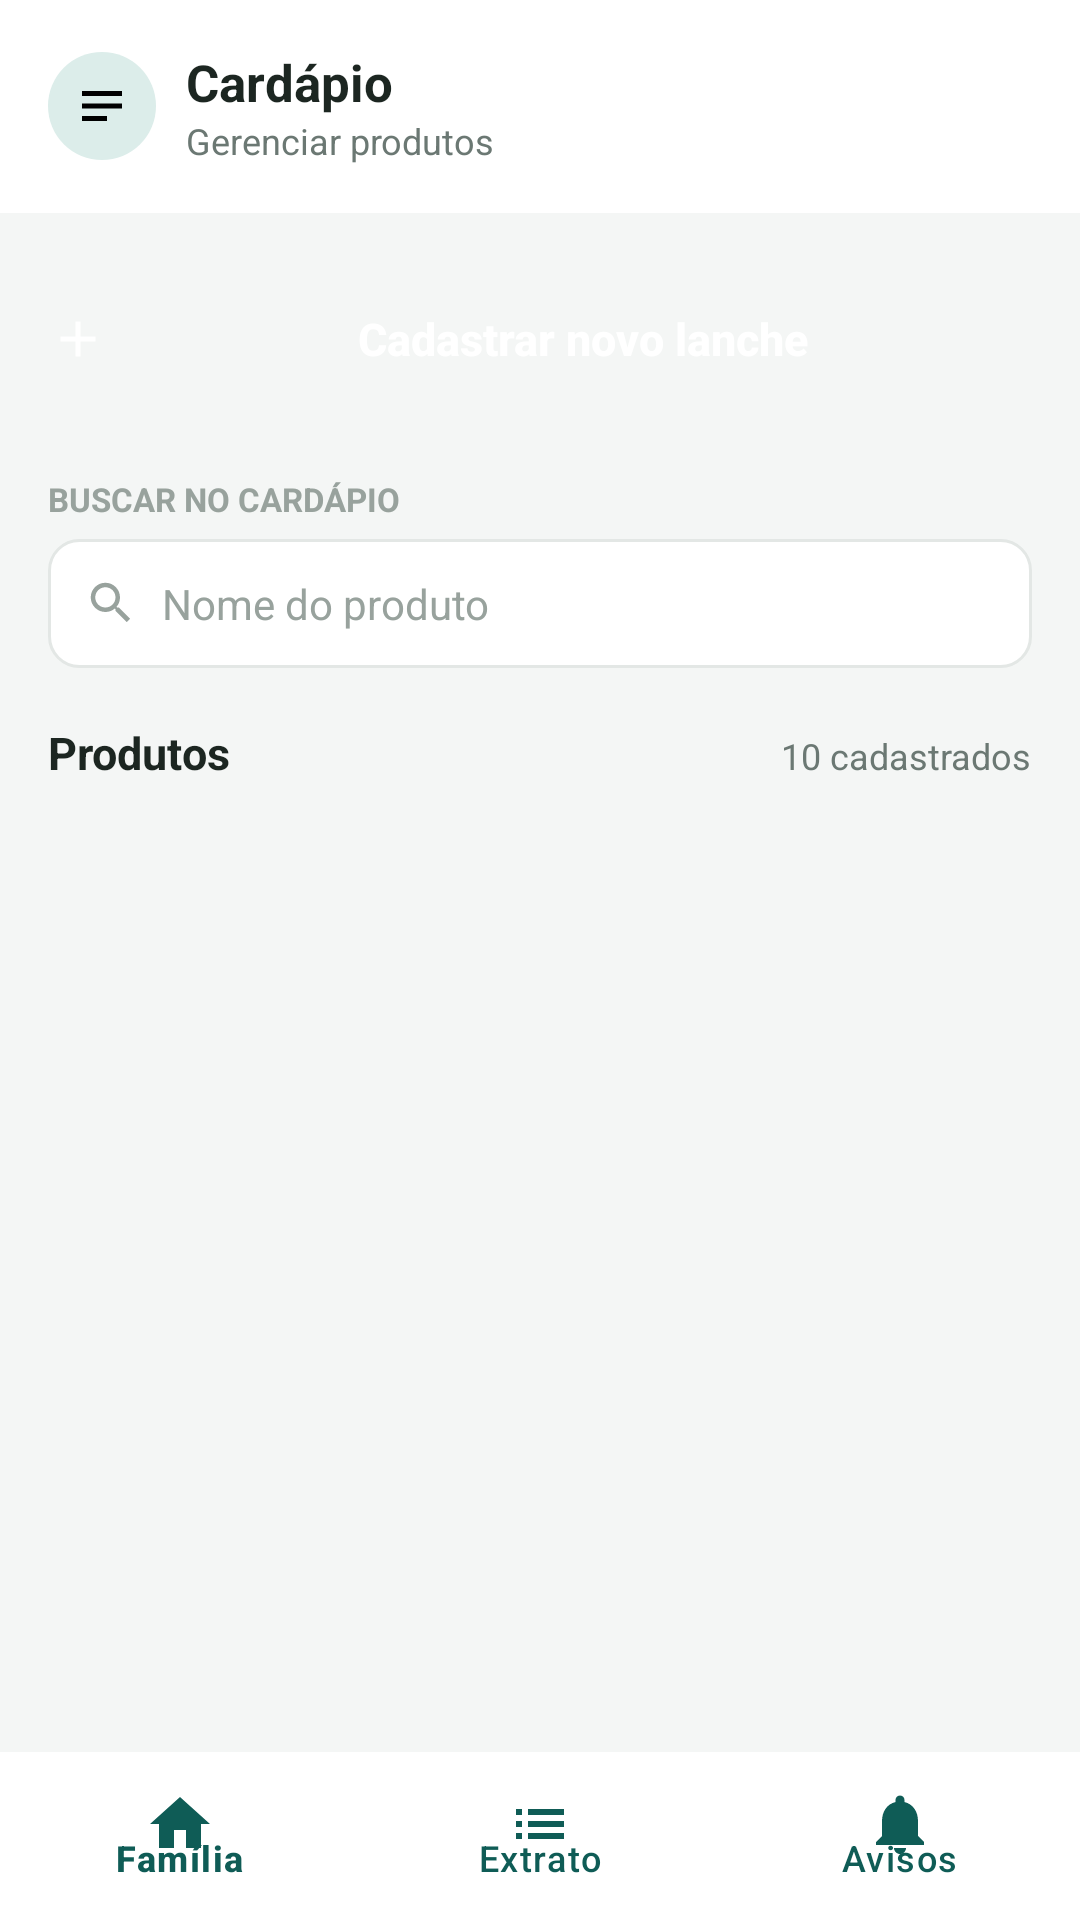

Where icons sit on this 1080 x 1920 app screen, as (left=x1, top=y1, right=x2, bottom=y2):
search: (left=90, top=582, right=130, bottom=622)
